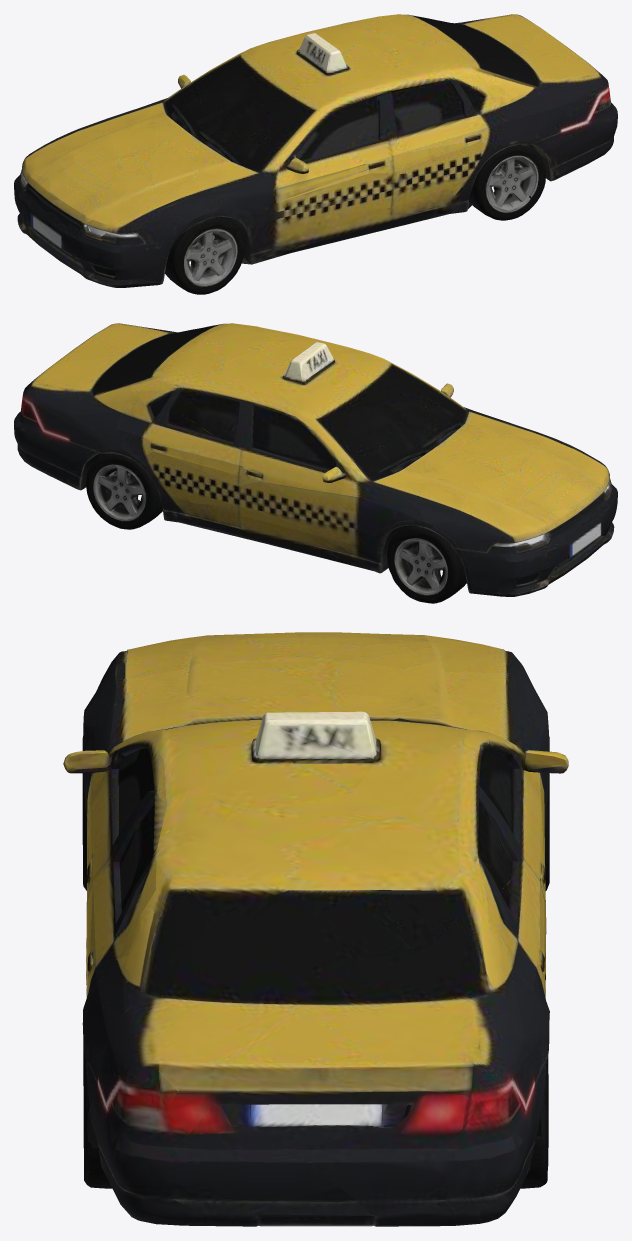
Rendered from ncz-road-taxi.glb.
The picture shows the model from 3 angles, top to bottom: view 1: azimuth 30°, elevation 25°; view 2: azimuth 150°, elevation 25°; view 3: azimuth 270°, elevation 25°; orthographic projection. The views are drawn at different scales.
Visible parts, largest first — view 1: output_unwrapped; view 2: output_unwrapped; view 3: output_unwrapped.
Boxes of the visible parts, x1,y1,x2,y2 form: output_unwrapped: (14, 14, 617, 294); output_unwrapped: (14, 323, 617, 603); output_unwrapped: (63, 632, 568, 1226).
Bounding box in the file's own units: 1.9 × 0.5749 × 0.7795.
Materials: 1 (1 with a texture image).
